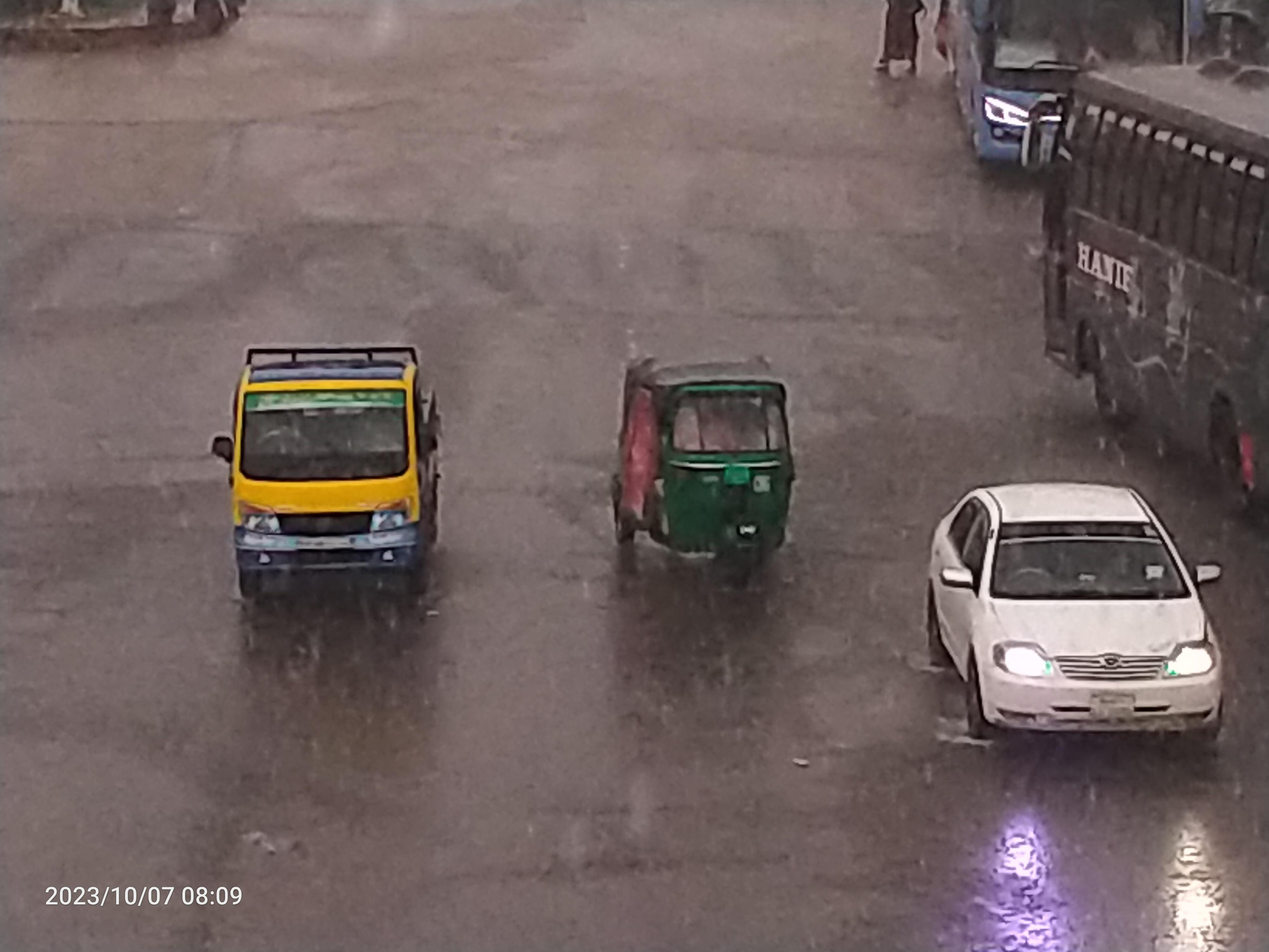Bus: (1035, 36, 1269, 518), (916, 0, 1243, 182)
Car: (896, 459, 1269, 814)
Truck: (186, 319, 503, 634)
